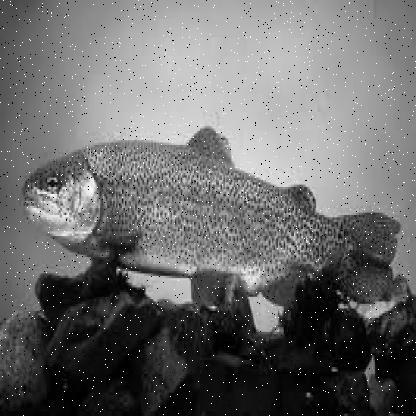fish: (21, 126, 399, 309)
